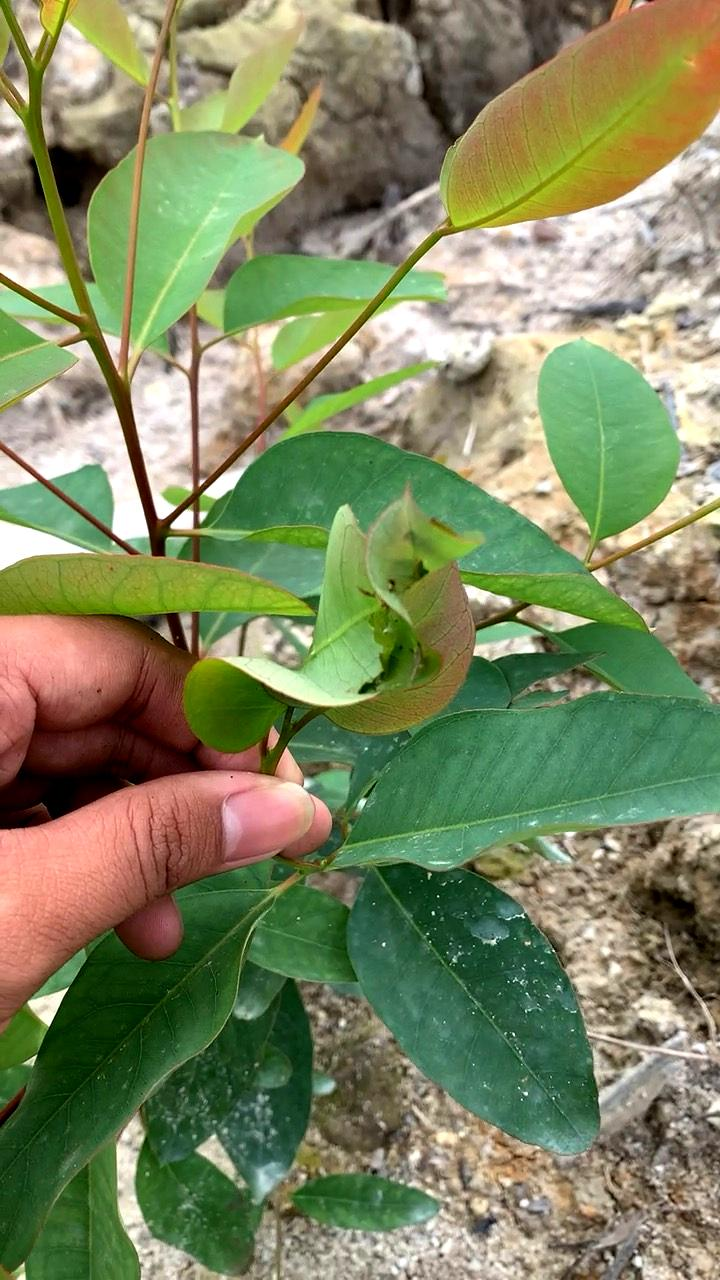Leaf Roller - Leaf: (175, 480, 508, 826)
